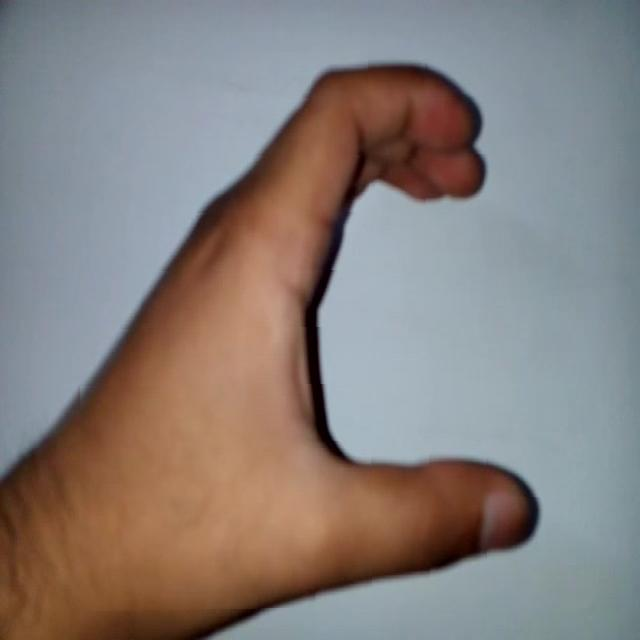C: (77, 44, 549, 609)
